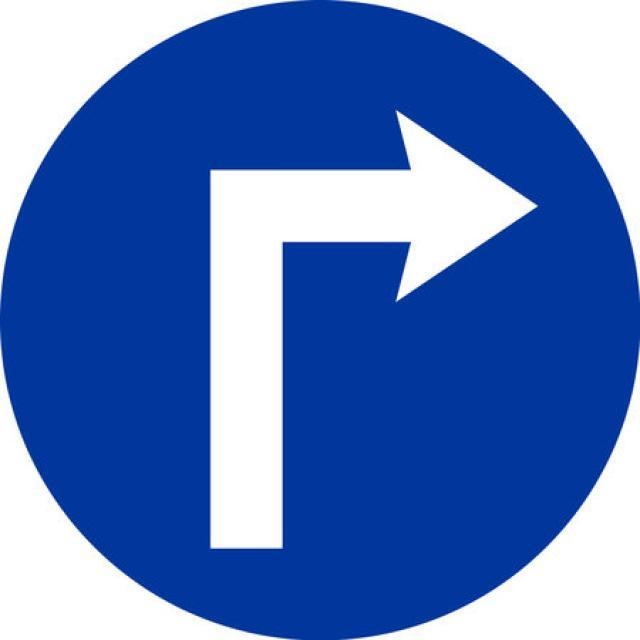compulsary turn right ahead: (17, 22, 621, 619)
